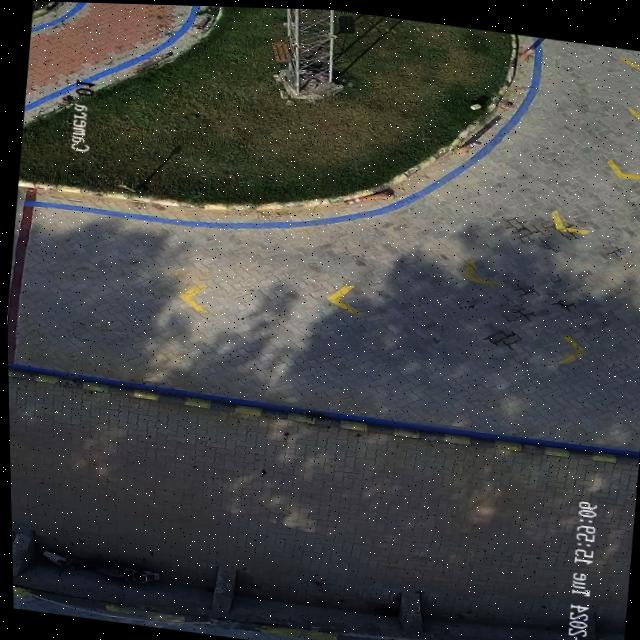No Car: (5, 1, 640, 640)
